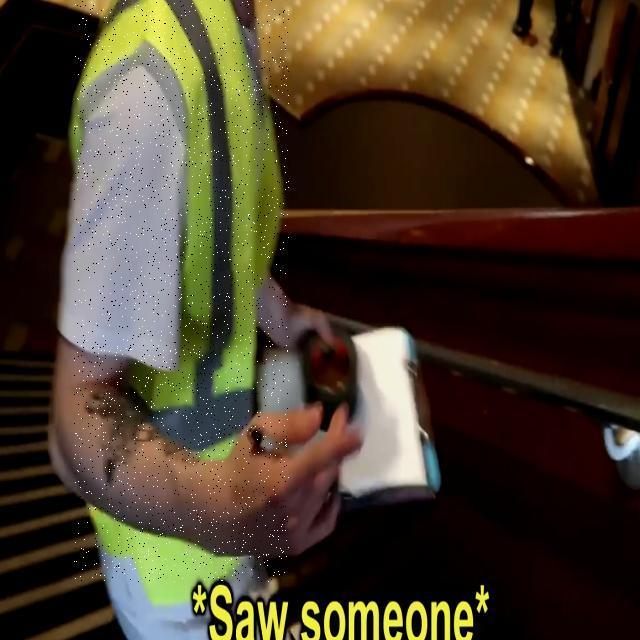vest: (74, 0, 289, 582)
